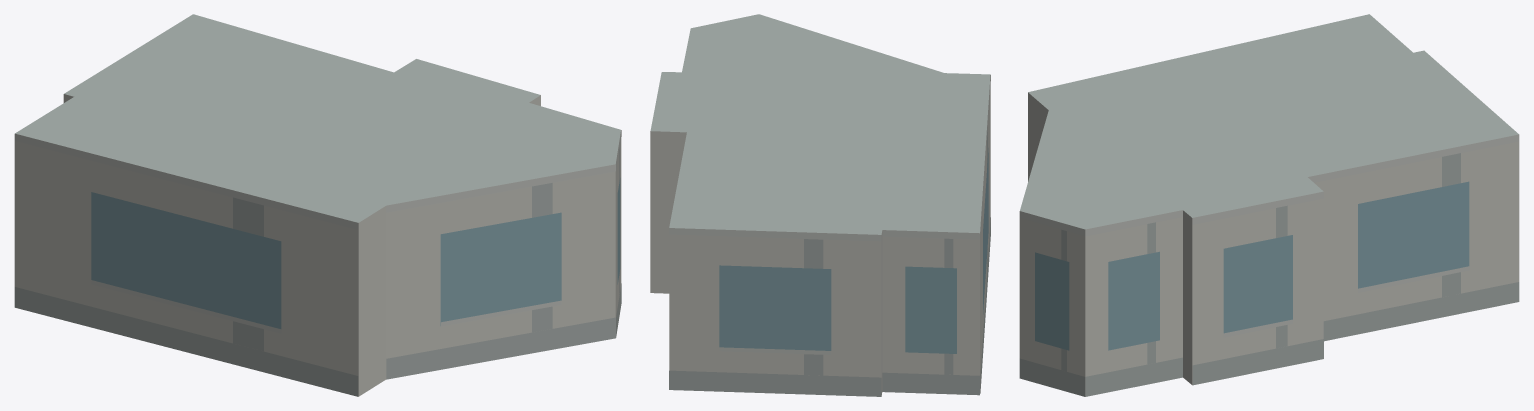
The model's file is residential-253b5e11-7d31-4953-a56b-e0c728356ef5.glb.
3 renders of one model, left to right at view 1: azimuth 30°, elevation 25°; view 2: azimuth 150°, elevation 25°; view 3: azimuth 270°, elevation 25°, orthographic. The views are drawn at different scales.
Parts seen in each view (by area): view 1: residential-253b5e11-7d31-4953-a56b-e0c728356ef5.tmp; view 2: residential-253b5e11-7d31-4953-a56b-e0c728356ef5.tmp; view 3: residential-253b5e11-7d31-4953-a56b-e0c728356ef5.tmp.
Boxes of the visible parts, left/top/right/bottom form: residential-253b5e11-7d31-4953-a56b-e0c728356ef5.tmp: left=14, top=14, right=621, bottom=396; residential-253b5e11-7d31-4953-a56b-e0c728356ef5.tmp: left=650, top=14, right=990, bottom=396; residential-253b5e11-7d31-4953-a56b-e0c728356ef5.tmp: left=1019, top=14, right=1519, bottom=396.
Size of the model in its own units: 8.43 by 3.05 by 8.26.
